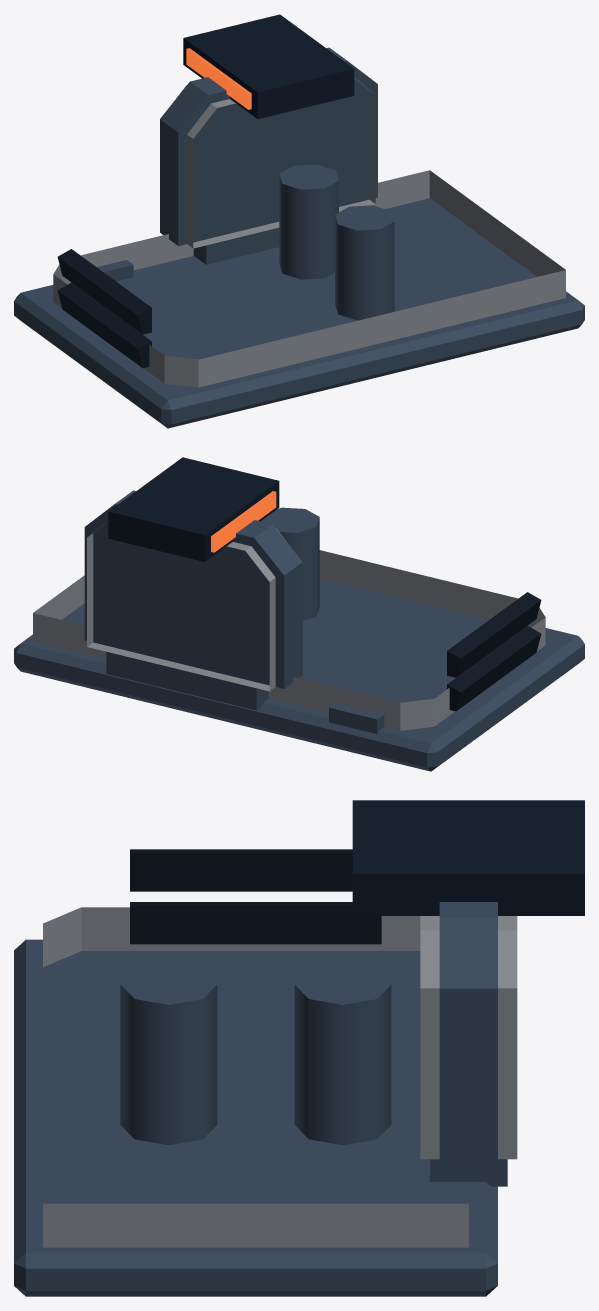
File: RS_ExhaustTrunk.glb
3 renders of one model, top to bottom at view 1: azimuth 30°, elevation 25°; view 2: azimuth 150°, elevation 25°; view 3: azimuth 270°, elevation 25°, orthographic. The views are drawn at different scales.
Visible parts, largest first — view 1: RS_ExhaustTrunk__house_roof, RS_ExhaustTrunk__joint, RS_ExhaustTrunk__house_body, RS_ExhaustTrunk__vent, RS_ExhaustTrunk__house_louvre, RS_ExhaustTrunk__trunk, RS_ExhaustTrunk__vent_glow; view 2: RS_ExhaustTrunk__house_roof, RS_ExhaustTrunk__joint, RS_ExhaustTrunk__house_body, RS_ExhaustTrunk__vent, RS_ExhaustTrunk__house_louvre, RS_ExhaustTrunk__trunk, RS_ExhaustTrunk__vent_glow; view 3: RS_ExhaustTrunk__house_roof, RS_ExhaustTrunk__vent, RS_ExhaustTrunk__house_body, RS_ExhaustTrunk__house_louvre, RS_ExhaustTrunk__joint, RS_ExhaustTrunk__trunk.
Part boxes in pixels (x1=…): RS_ExhaustTrunk__house_roof: x1=14, y1=164, x2=584, y2=428; RS_ExhaustTrunk__joint: x1=97, y1=47, x2=377, y2=281; RS_ExhaustTrunk__house_body: x1=53, y1=170, x2=565, y2=387; RS_ExhaustTrunk__vent: x1=183, y1=14, x2=354, y2=118; RS_ExhaustTrunk__house_louvre: x1=57, y1=249, x2=151, y2=368; RS_ExhaustTrunk__trunk: x1=175, y1=78, x2=375, y2=248; RS_ExhaustTrunk__vent_glow: x1=186, y1=48, x2=251, y2=109; RS_ExhaustTrunk__house_roof: x1=14, y1=507, x2=584, y2=771; RS_ExhaustTrunk__joint: x1=84, y1=490, x2=384, y2=733; RS_ExhaustTrunk__house_body: x1=33, y1=550, x2=545, y2=730; RS_ExhaustTrunk__vent: x1=108, y1=457, x2=279, y2=561; RS_ExhaustTrunk__house_louvre: x1=447, y1=592, x2=541, y2=711; RS_ExhaustTrunk__trunk: x1=87, y1=521, x2=286, y2=691; RS_ExhaustTrunk__vent_glow: x1=211, y1=491, x2=276, y2=552; RS_ExhaustTrunk__house_roof: x1=14, y1=939, x2=497, y2=1296; RS_ExhaustTrunk__vent: x1=352, y1=800, x2=584, y2=915; RS_ExhaustTrunk__house_body: x1=43, y1=907, x2=468, y2=1247; RS_ExhaustTrunk__house_louvre: x1=130, y1=849, x2=381, y2=944; RS_ExhaustTrunk__joint: x1=430, y1=902, x2=507, y2=1186; RS_ExhaustTrunk__trunk: x1=420, y1=916, x2=517, y2=1159.
Size of the model in its own units: 7.9 by 3.78 by 5.9.
